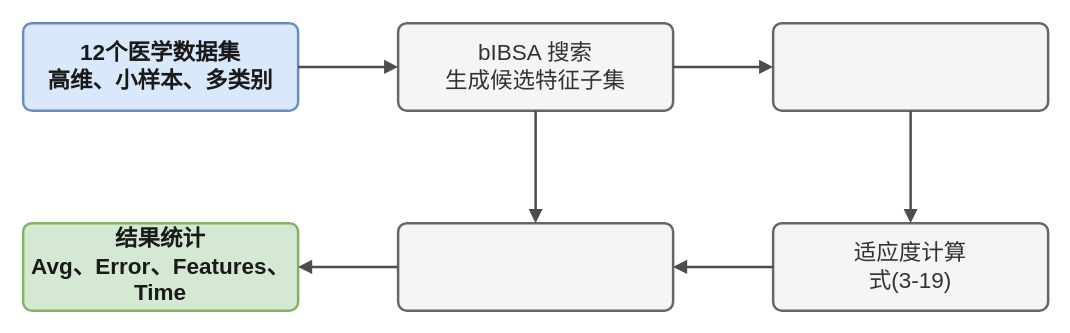
The diagram is 1070 pixels wide and 333 high, and some of its shapes have lost their labels. Each missing label, with the centre of its shape:
"10 折交叉验证 KNN 分类器 (K = 5)" goes at pixel 910 66.
"分类错误率 特征比例" goes at pixel 535 266.
